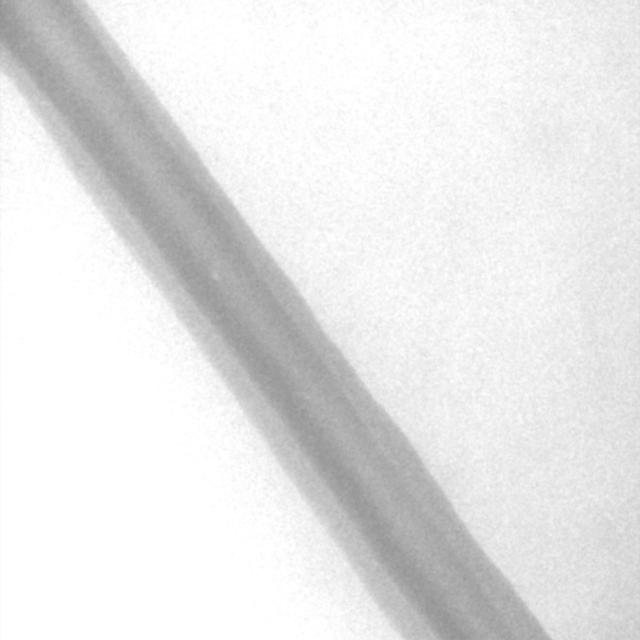air-hole: (212, 270, 220, 281)
